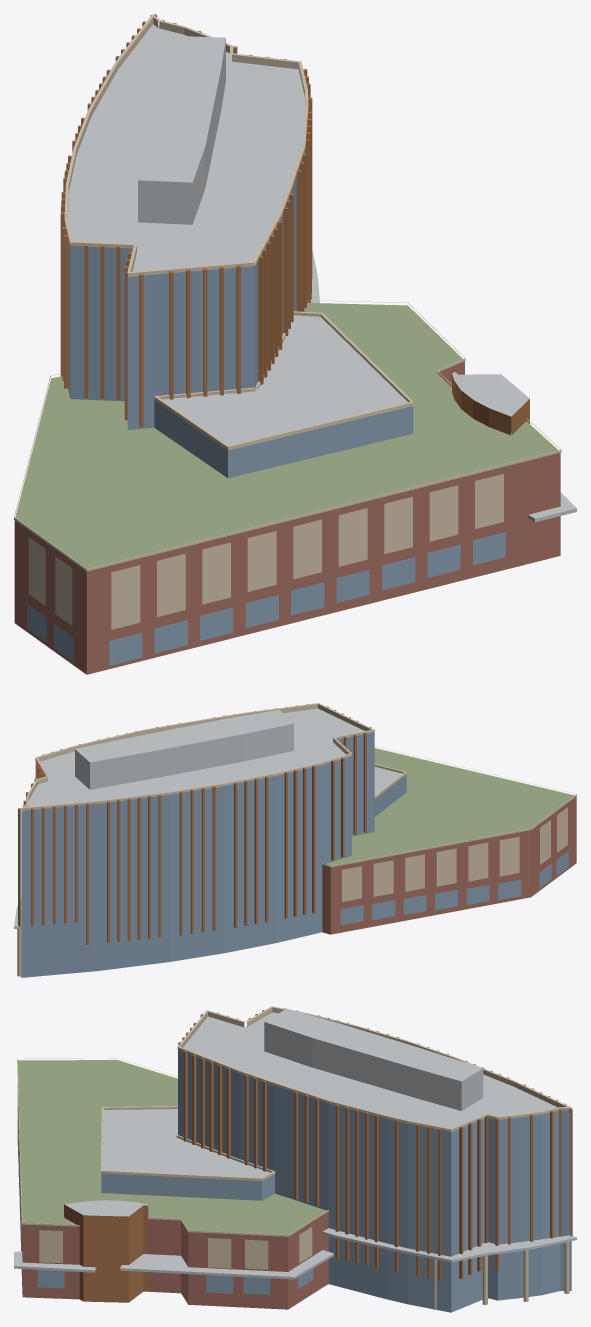
File: clt-dfa-building.glb
3 views of the same model, one above another, from view 1: azimuth 30°, elevation 25°; view 2: azimuth 150°, elevation 25°; view 3: azimuth 270°, elevation 25° (orthographic). The views are drawn at different scales.
Parts seen in each view (by area): view 1: Dimensional Place; view 2: Dimensional Place; view 3: Dimensional Place.
Part boxes in pixels (x1,y1,x2,y2): Dimensional Place: (14, 14, 576, 674); Dimensional Place: (14, 703, 576, 977); Dimensional Place: (14, 1006, 576, 1312).
Size of the model in its own units: 95.52 by 50.55 by 124.
